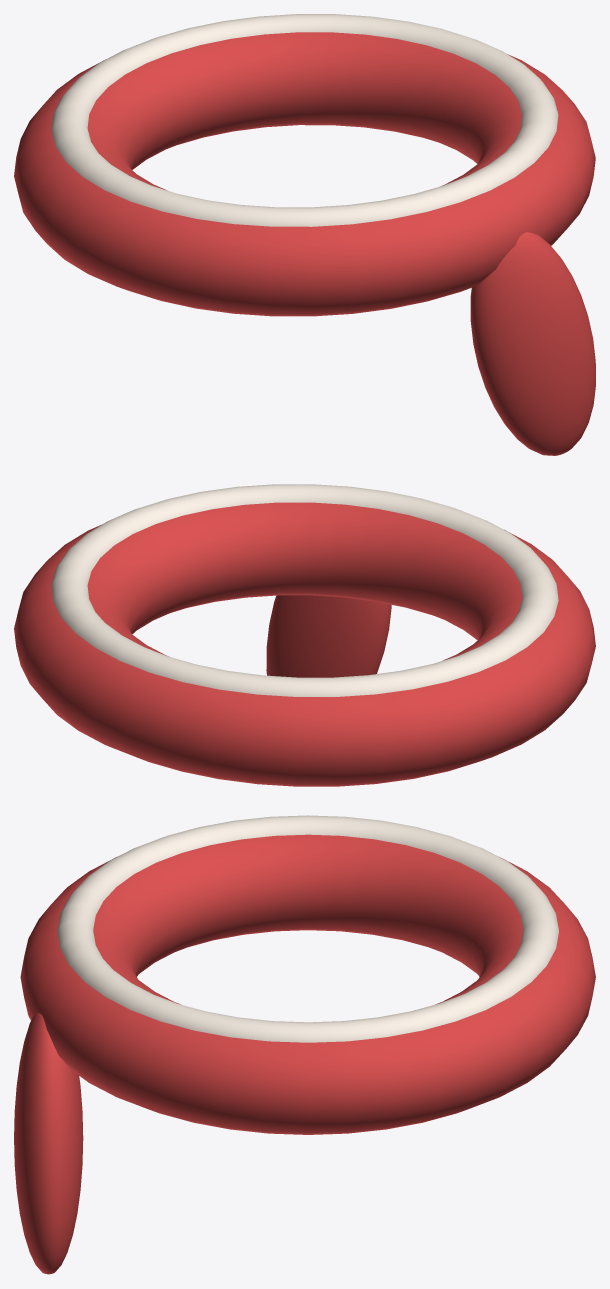
File: acc_scarf.glb
3 views of the same model, one above another, from view 1: azimuth 30°, elevation 25°; view 2: azimuth 150°, elevation 25°; view 3: azimuth 270°, elevation 25° (orthographic). The views are drawn at different scales.
Visible parts, largest first — view 1: Scarf_Ring, Scarf_Stripe, Scarf_Tail; view 2: Scarf_Ring, Scarf_Stripe, Scarf_Tail; view 3: Scarf_Ring, Scarf_Stripe, Scarf_Tail.
Boxes of the visible parts, box(x1,y1,x2,y2) form: Scarf_Ring: box(14, 32, 595, 316); Scarf_Stripe: box(51, 14, 558, 226); Scarf_Tail: box(470, 232, 595, 455); Scarf_Ring: box(14, 502, 595, 786); Scarf_Stripe: box(51, 484, 558, 696); Scarf_Tail: box(266, 595, 391, 677); Scarf_Ring: box(20, 834, 595, 1134); Scarf_Stripe: box(57, 815, 558, 1042); Scarf_Tail: box(14, 1013, 83, 1274).
Size of the model in its own units: 0.35 by 0.1835 by 0.3362.
